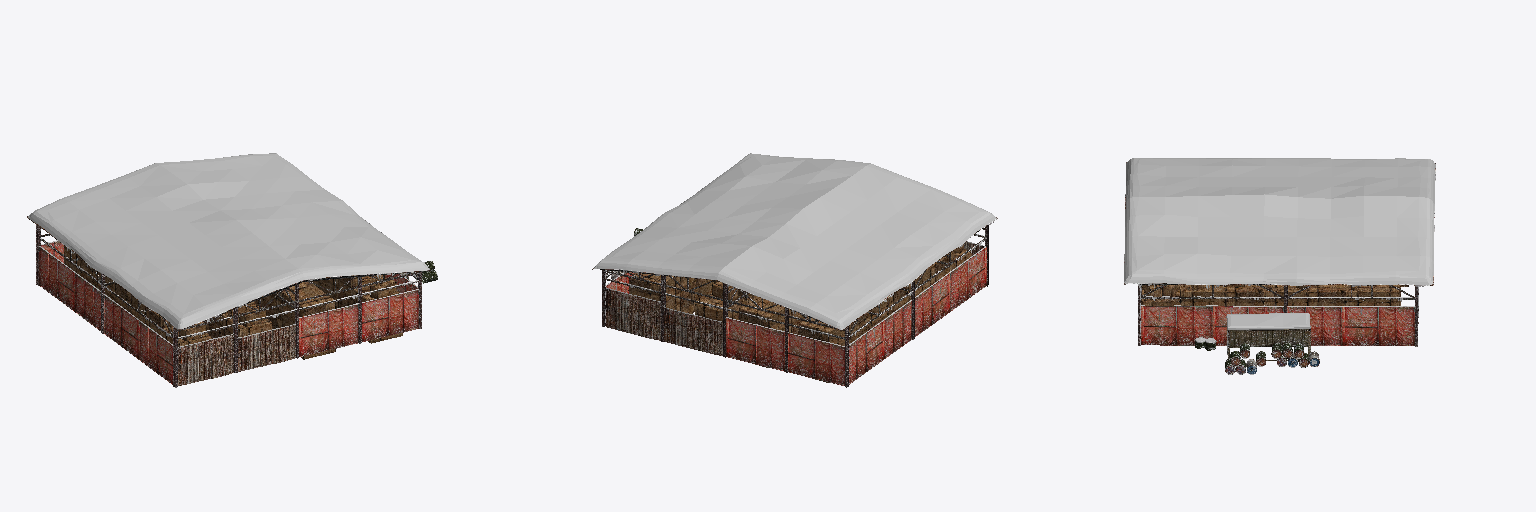
The picture shows the model from 3 angles: view 1: azimuth 30°, elevation 25°; view 2: azimuth 150°, elevation 25°; view 3: azimuth 270°, elevation 25°; orthographic projection.
Parts seen in each view (by area): view 1: brn:plg_01_rdside_barn_20_Untitled; view 2: brn:plg_01_rdside_barn_20_Untitled; view 3: brn:plg_01_rdside_barn_20_Untitled.
Part boxes in pixels (left/top/right/bottom): brn:plg_01_rdside_barn_20_Untitled: left=27, top=153, right=437, bottom=387; brn:plg_01_rdside_barn_20_Untitled: left=592, top=153, right=997, bottom=387; brn:plg_01_rdside_barn_20_Untitled: left=1124, top=158, right=1435, bottom=374.
Bounding box in the file's own units: 0.7449 × 0.2218 × 0.6495.
12 materials, 10 textured.